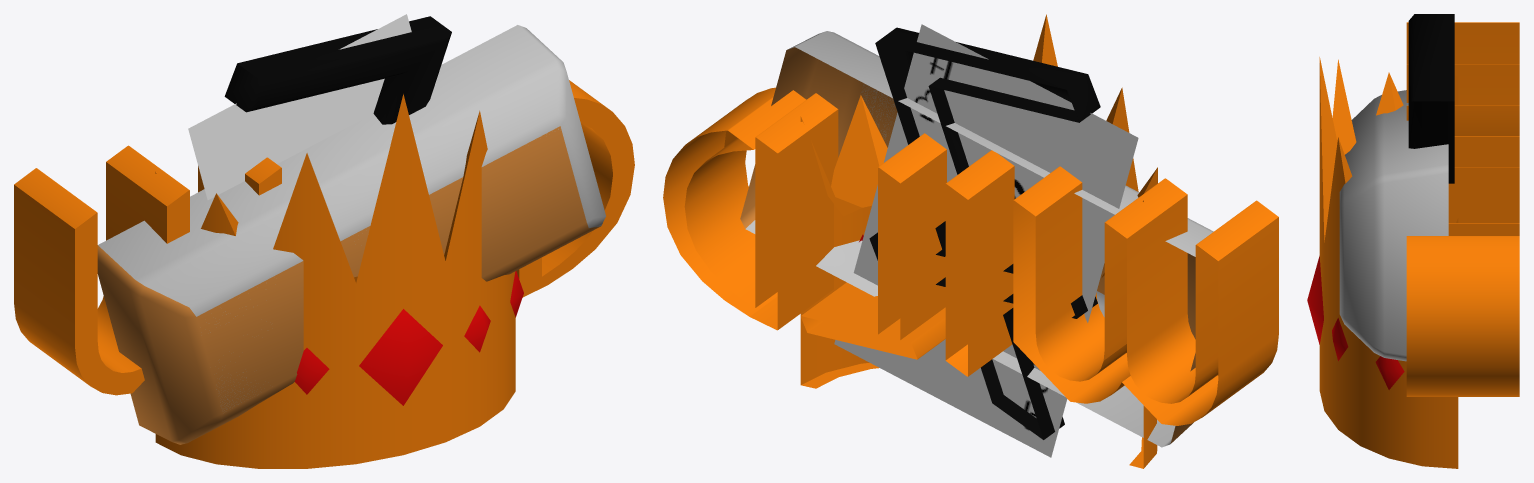
Rendered from vips.fbx.
3 views of the same model, side by side, from view 1: azimuth 30°, elevation 25°; view 2: azimuth 150°, elevation 25°; view 3: azimuth 270°, elevation 25° (orthographic). The views are drawn at different scales.
Parts seen in each view (by area): view 1: v_cwn, v_slv, v_brz, v_w, v_svn, v_clb; view 2: v_w, v_clb, v_svn, v_cwn, v_slv, v_brz; view 3: v_w, v_cwn, v_slv, v_svn.
Part boxes in pixels (x1,y1,x2,y2): v_cwn: (155,94,523,468); v_slv: (98,25,605,410); v_brz: (97,126,600,444); v_w: (14,80,634,395); v_svn: (224,16,451,124); v_clb: (188,14,411,199); v_w: (663,87,1278,425); v_clb: (834,24,1138,457); v_svn: (869,27,1100,439); v_cwn: (800,14,1157,468); v_slv: (745,31,1213,447); v_brz: (740,47,1195,443); v_w: (1406,22,1519,396); v_cwn: (1307,57,1458,468); v_slv: (1339,90,1448,361); v_svn: (1408,14,1454,183).
Size of the model in its own units: 0.0932 by 0.0645 by 0.0331.
6 materials, 1 textured.
